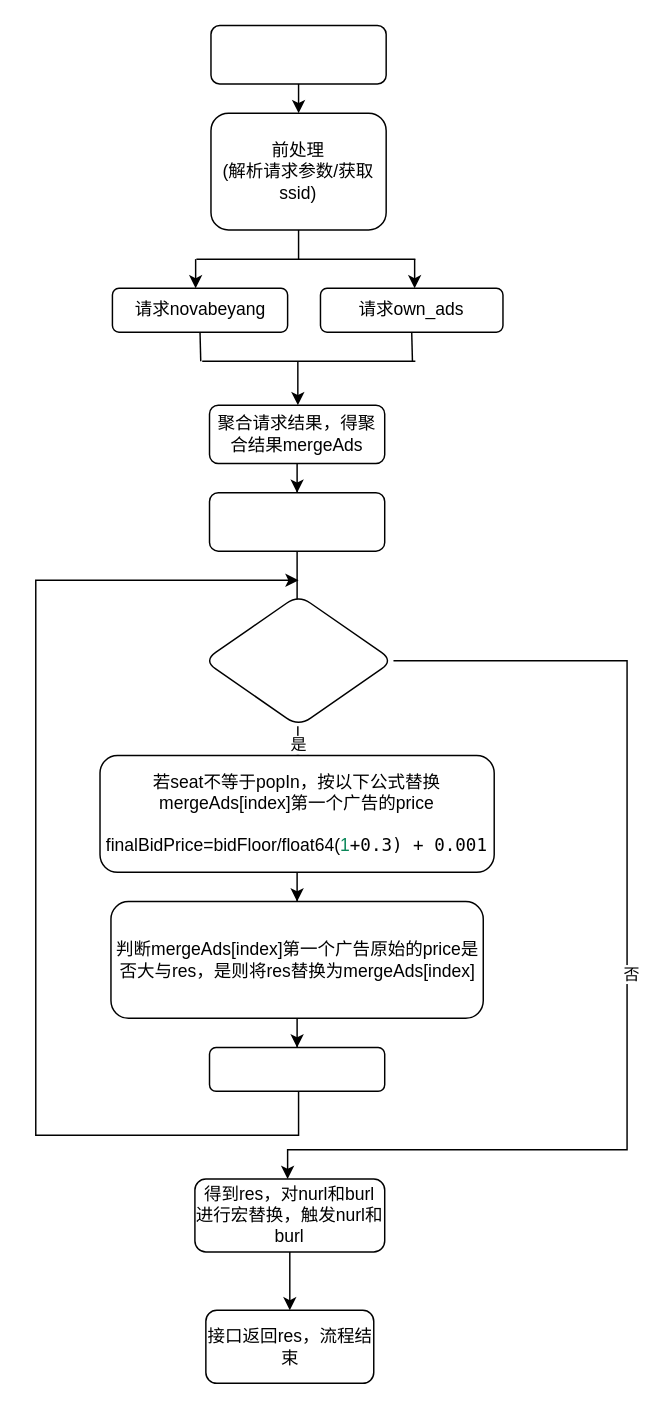
This 664x1409 diagram has some shape labels left out. The shapes that lost their labels are listed below. From the top down, each one's box as (x1, y1, x2, y2) in pixels, then its label:
(210, 24, 386, 84): 开始
(208, 491, 385, 551): 取下标index=0
(202, 593, 393, 726): index< mergeAds总长
(208, 1046, 385, 1091): index=index+1
